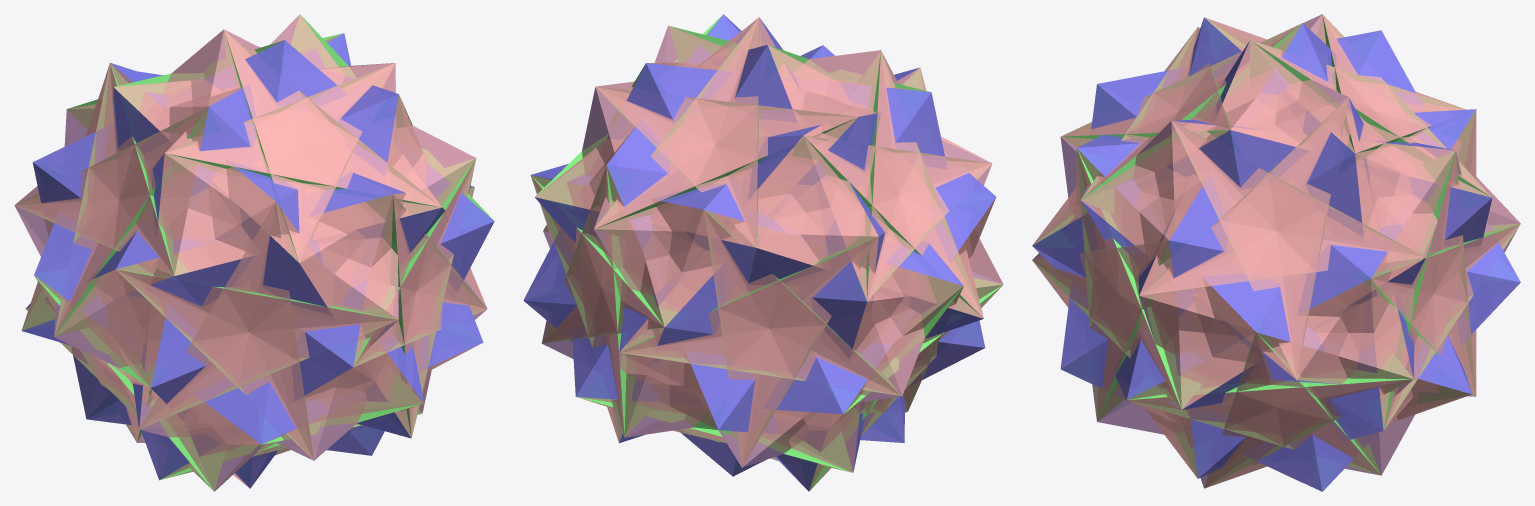
File: 53_Dodekexcavated_Sid.obj
3 views of the same model, side by side, from view 1: azimuth 30°, elevation 25°; view 2: azimuth 150°, elevation 25°; view 3: azimuth 270°, elevation 25° (orthographic).
Size of the model in its own units: 1.69 by 1.69 by 1.69.
